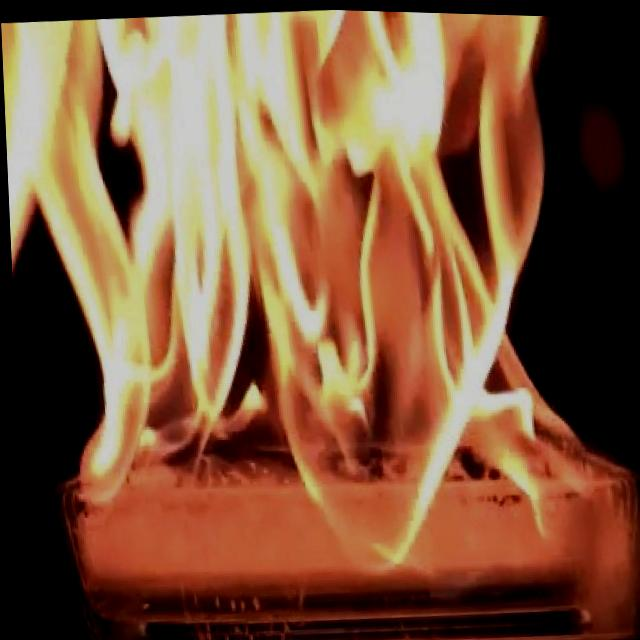Fire: (0, 0, 610, 594)
